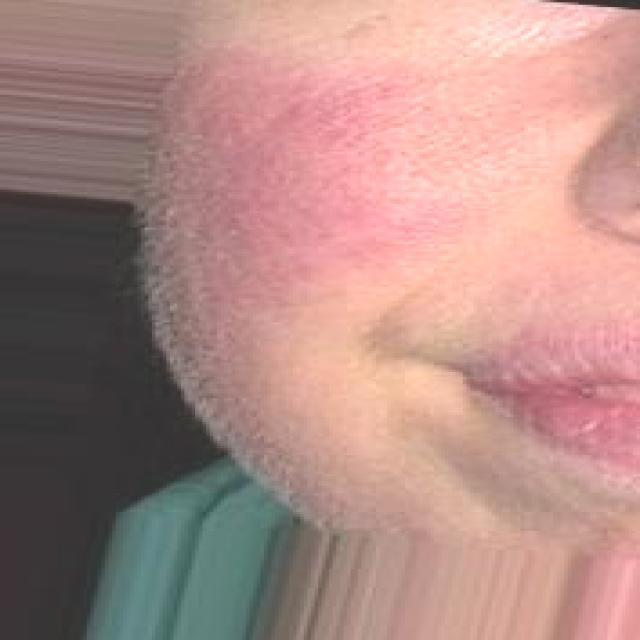Rosacea: (162, 34, 532, 290)
